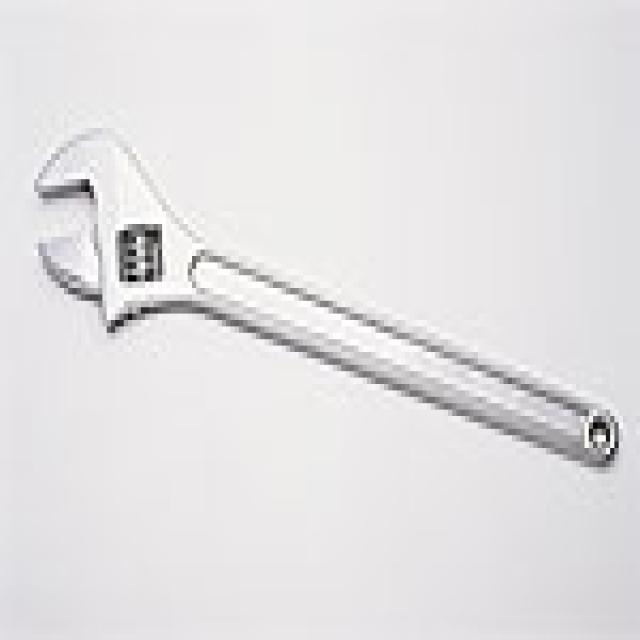wrench: (24, 107, 640, 518)
